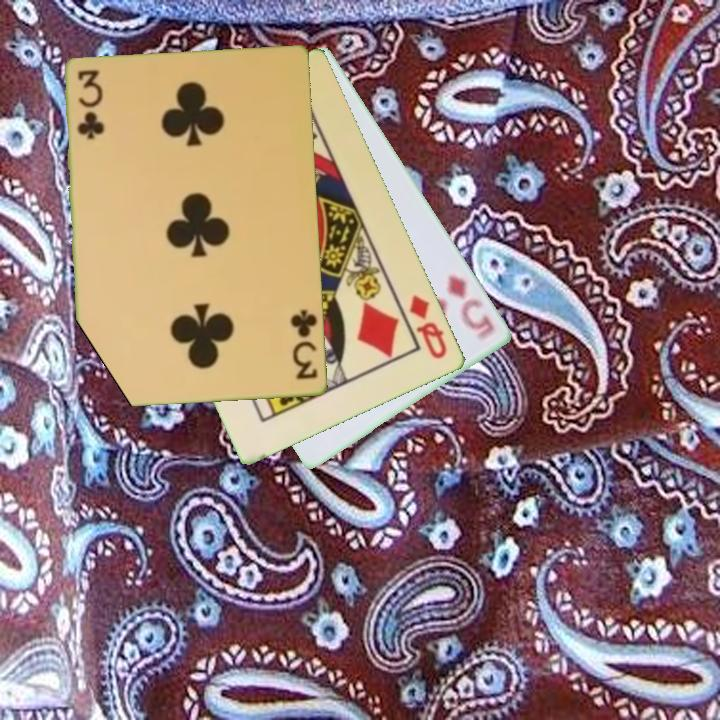3c: (287, 306, 321, 383), (74, 67, 104, 143)
5d: (444, 272, 498, 342)
Qd: (406, 291, 450, 363)
